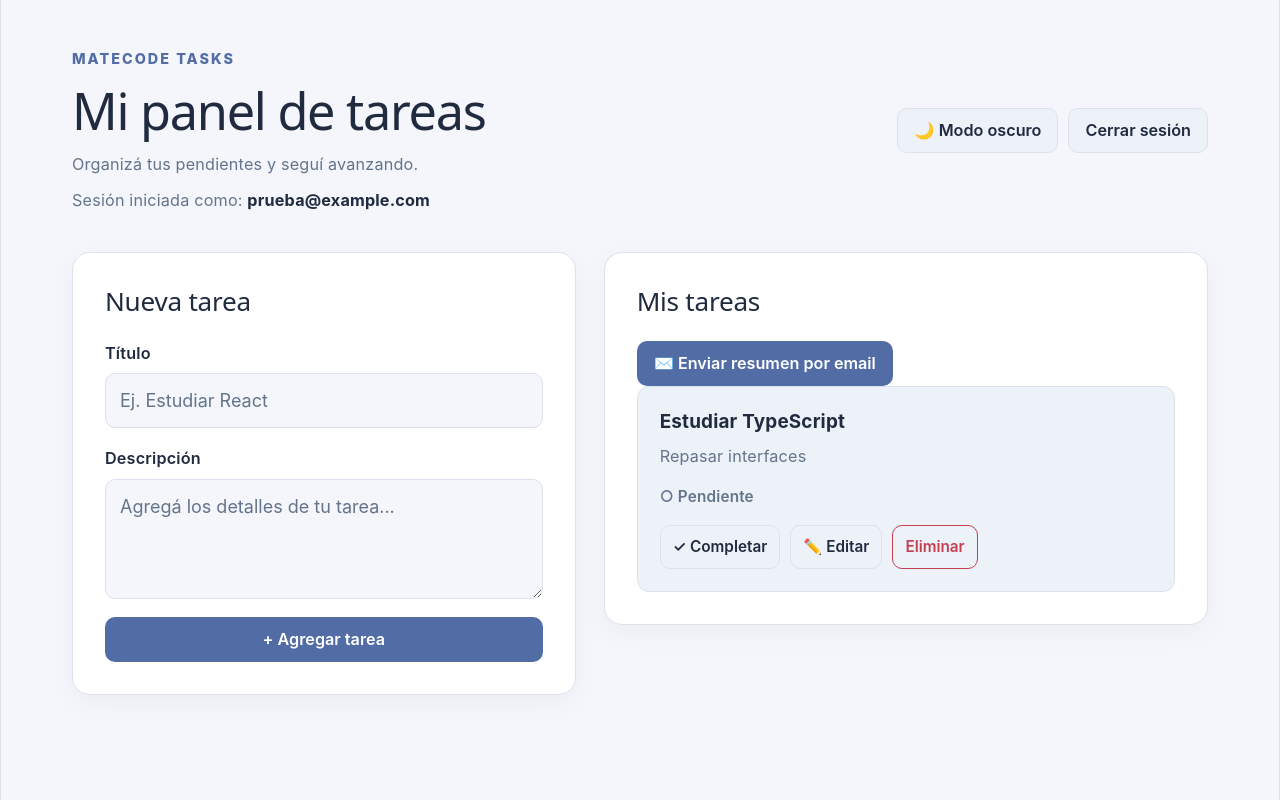
Dashboard › permite editar el título y la descripción
Expected: the heading "Estudiar TypeScript" is shown, [660,410,845,433]
Entramos en modo edición.
Click the button "✏️ Editar" at (836, 547), box [790,525,882,569]
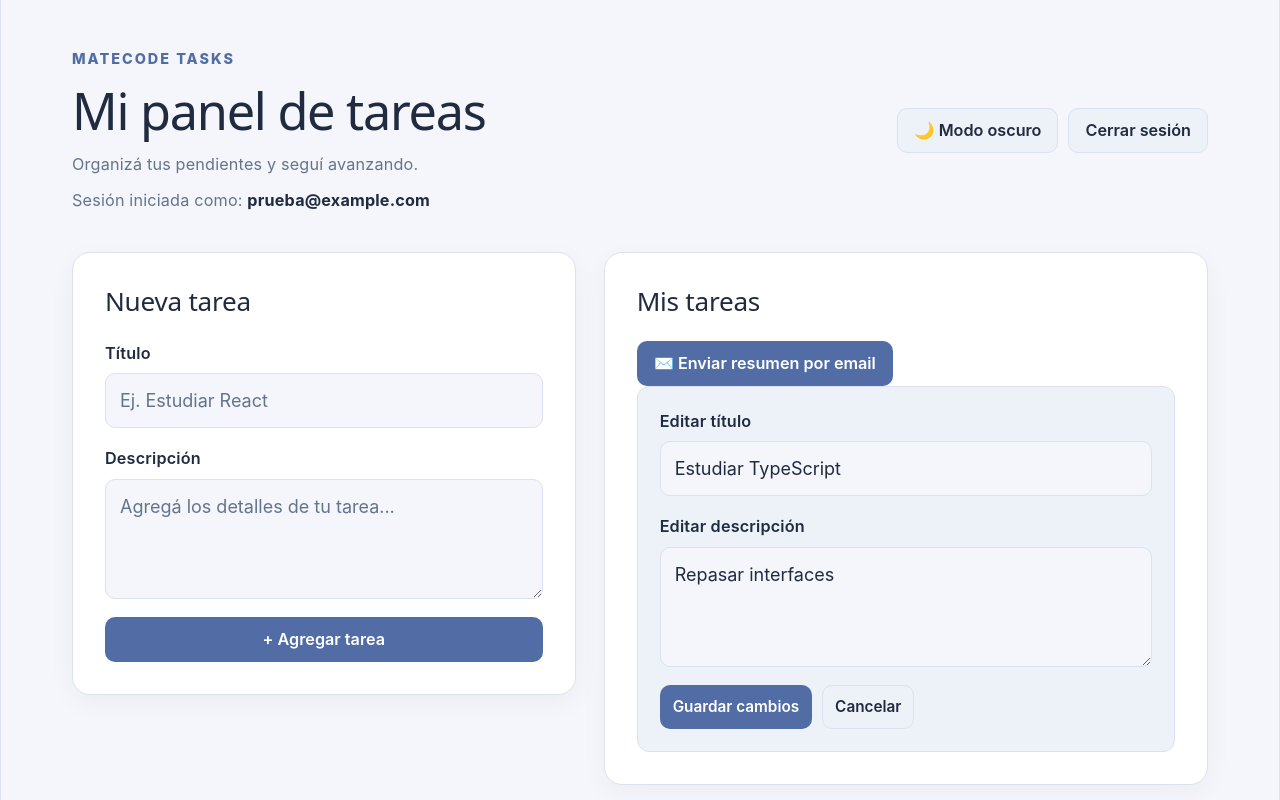
Modificamos los datos.
Replace the text in the field labelled "Editar título" with "Estudiar React avanzado" at (906, 469), box [660,441,1152,496]
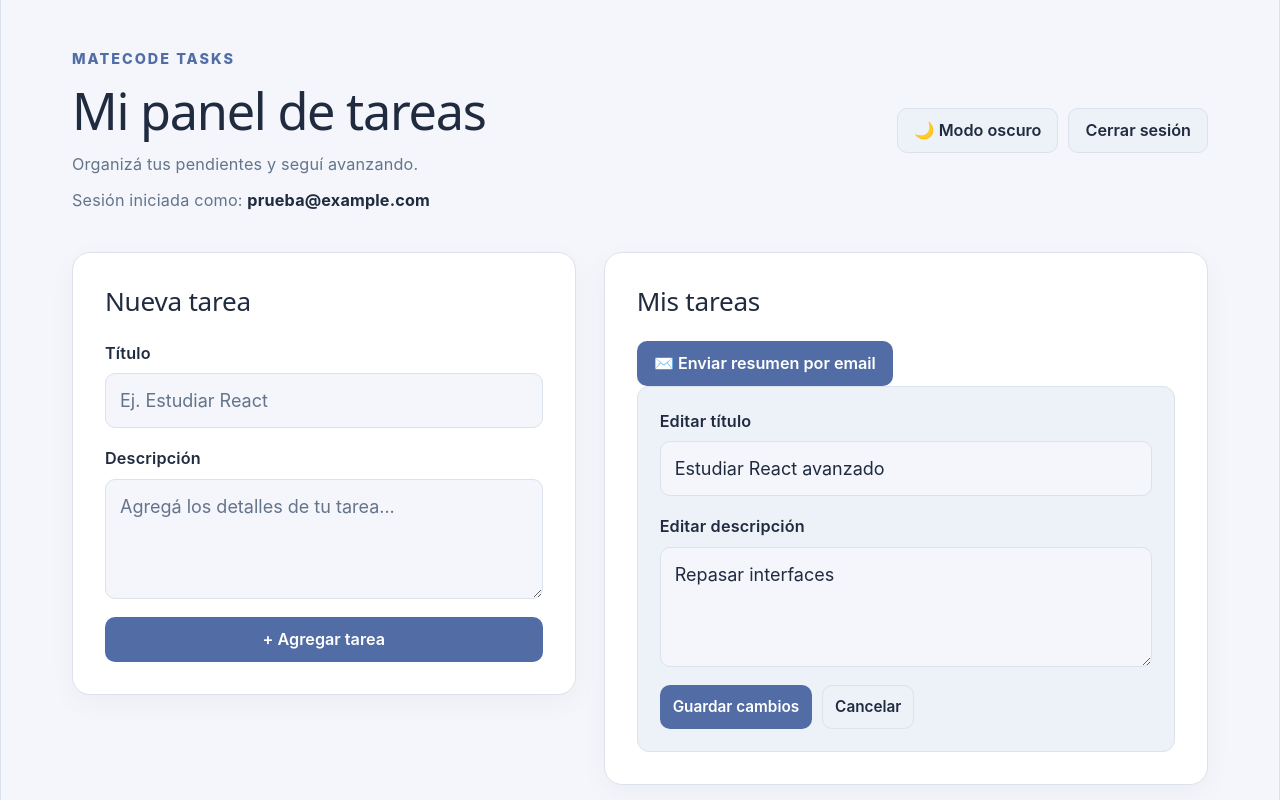
Replace the text in the text box labelled "Editar descripción" with "Repasar hooks y componentes" at (906, 607), box [660,547,1152,667]
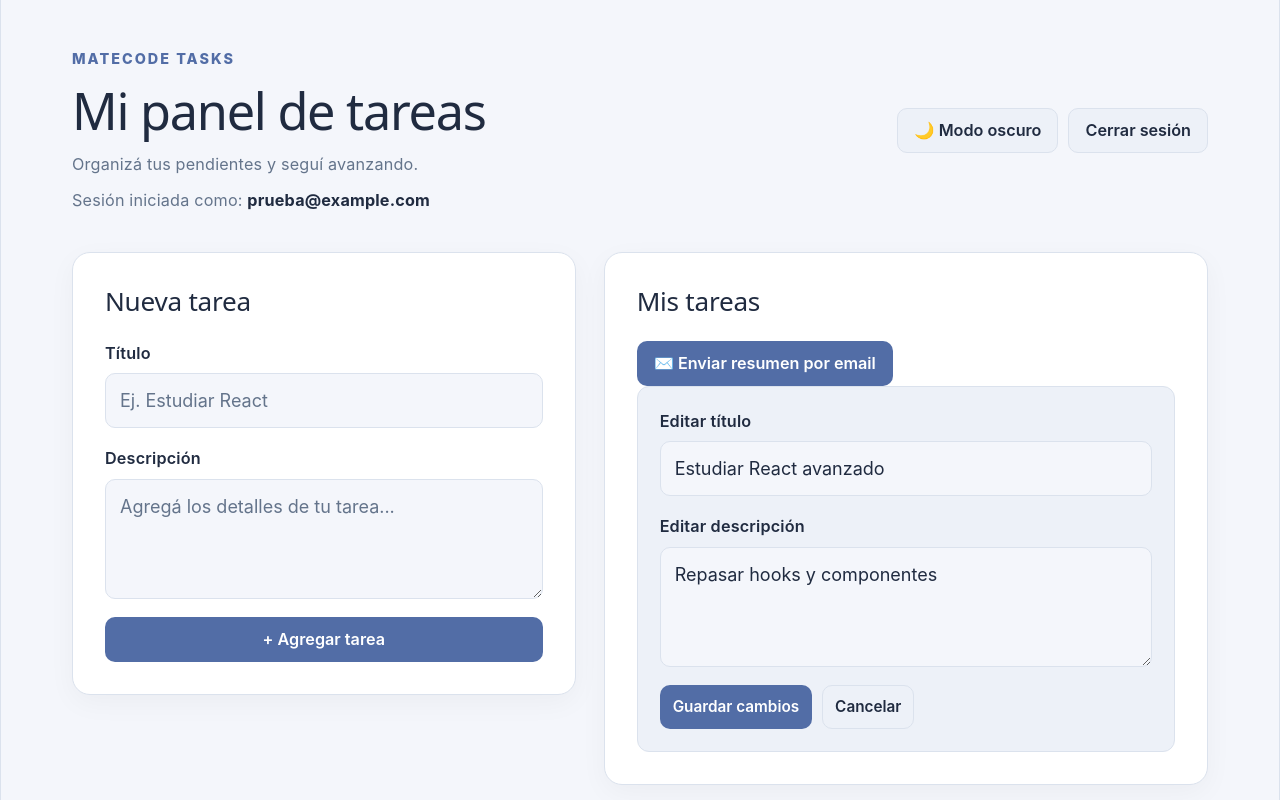
Guardamos los cambios.
Click the button "Guardar cambios" at (736, 707), box [660,685,812,729]
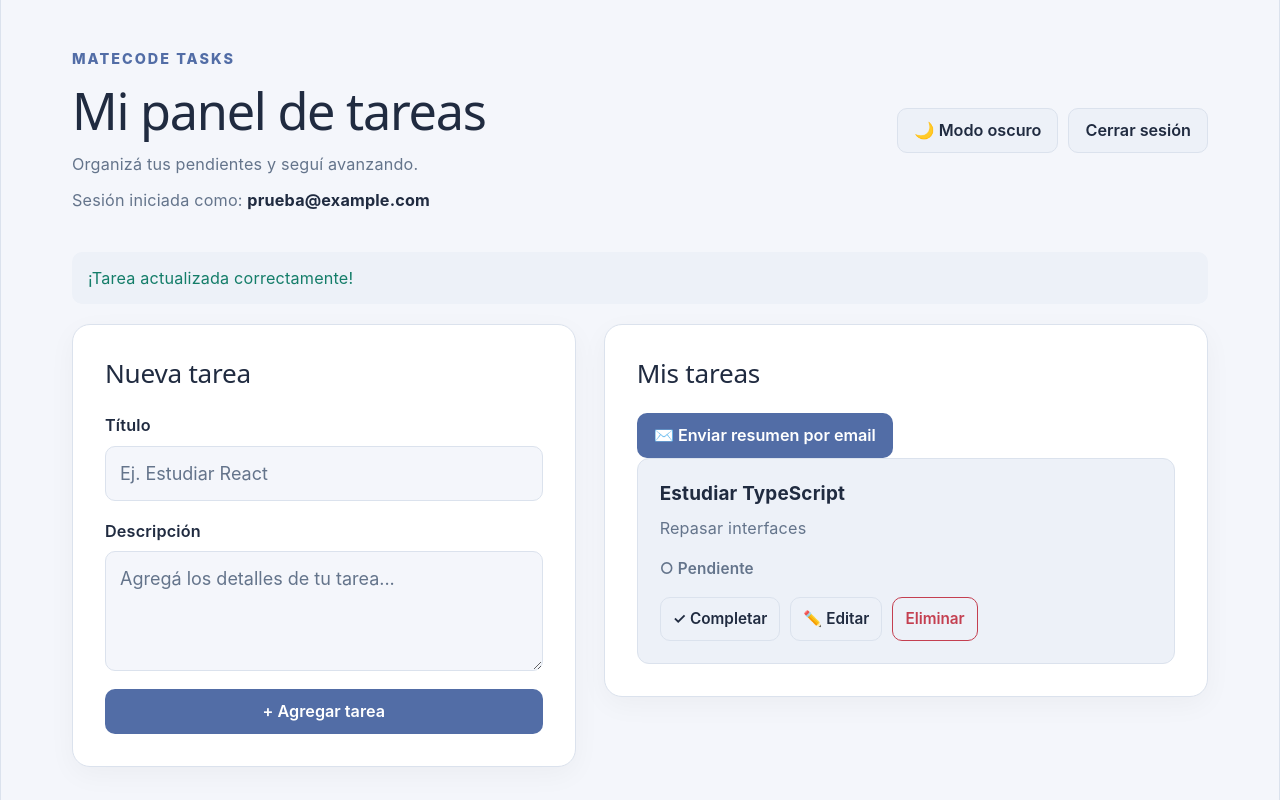
Now the text "¡Tarea actualizada correctamente!" is shown, box [72,252,1208,304]
